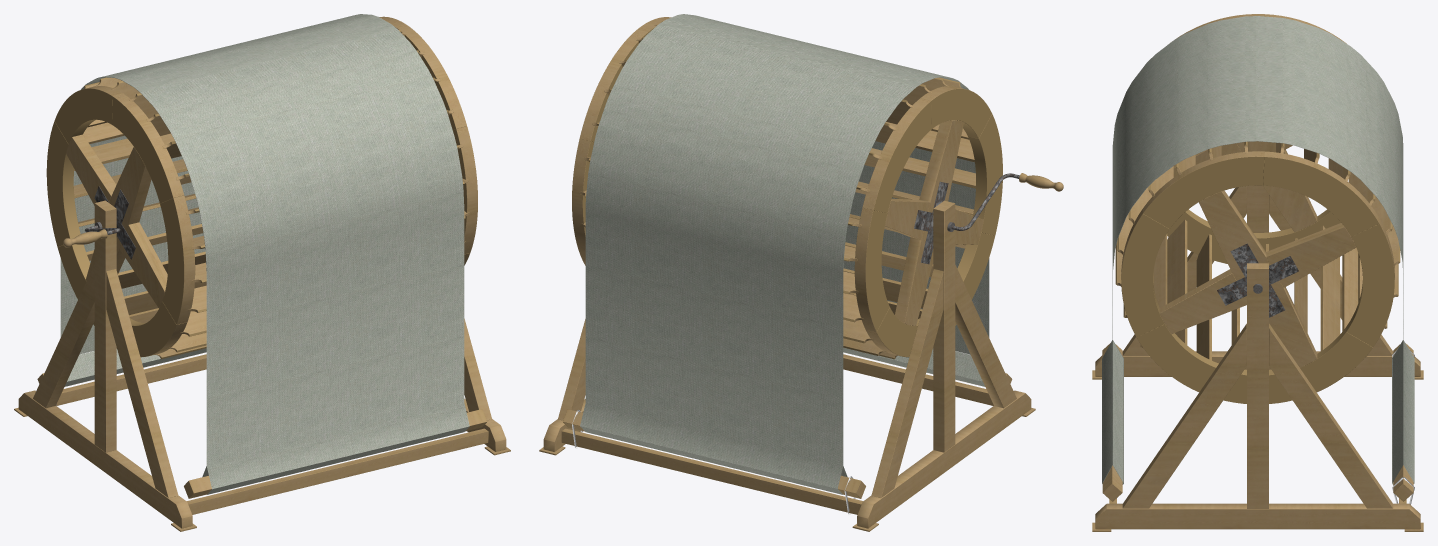
File: baroqueMachinery_Wind_v17 Animation (1).gltf
The picture shows the model from 3 angles, left to right: view 1: azimuth 30°, elevation 25°; view 2: azimuth 150°, elevation 25°; view 3: azimuth 270°, elevation 25°; orthographic projection.
Visible parts, largest first — view 1: Polygon-Fabric_06-LeinenTuch, drum-front-segment-wood-light-04326-1 (×8), diagonal-wood-light-04326-1 (×3), horizontal below-wood-light-04326-1 (×2), Group-wood-light-04326-1 (×2), Polygon-wood-light-04326-1 (×2), vertical-wood-light-04326-1, baroqueMachinery_Wind-Lamelle-wood-light-04326-1 (×2), horizontal fabric-wood-light-04326-1, steel cross-Iron_Dirty_20cm; view 2: Polygon-Fabric_06-LeinenTuch, drum-front-segment-wood-light-04326-1 (×8), diagonal-wood-light-04326-1 (×3), horizontal below-wood-light-04326-1 (×2), Group-wood-light-04326-1 (×2), vertical-wood-light-04326-1, Polygon-wood-light-04326-1, baroqueMachinery_Wind-Lamelle-wood-light-04326-1 (×2), steel cross-Iron_Dirty_20cm, horizontal fabric-wood-light-04326-1; view 3: Polygon-Fabric_06-LeinenTuch, drum-front-segment-wood-light-04326-1 (×8), diagonal-wood-light-04326-1 (×4), Group-wood-light-04326-1 (×4), Polygon-wood-light-04326-1 (×2), baroqueMachinery_Wind-Lamelle-wood-light-04326-1 (×6), vertical-wood-light-04326-1 (×2), steel cross-Iron_Dirty_20cm, horizontal fabric-wood-light-04326-1 (×2).
Boxes of the visible parts, bbox=[...] form: Polygon-Fabric_06-LeinenTuch: bbox=[60, 14, 469, 494]; drum-front-segment-wood-light-04326-1 (×8): bbox=[46, 24, 477, 357]; diagonal-wood-light-04326-1 (×3): bbox=[33, 264, 491, 497]; horizontal below-wood-light-04326-1 (×2): bbox=[56, 354, 488, 514]; Group-wood-light-04326-1 (×2): bbox=[66, 134, 167, 308]; Polygon-wood-light-04326-1 (×2): bbox=[18, 390, 506, 528]; vertical-wood-light-04326-1: bbox=[94, 200, 116, 452]; baroqueMachinery_Wind-Lamelle-wood-light-04326-1 (×2): bbox=[74, 133, 206, 315]; horizontal fabric-wood-light-04326-1: bbox=[184, 409, 487, 498]; steel cross-Iron_Dirty_20cm: bbox=[94, 186, 135, 259]; Polygon-Fabric_06-LeinenTuch: bbox=[580, 14, 989, 494]; drum-front-segment-wood-light-04326-1 (×8): bbox=[572, 29, 1002, 357]; diagonal-wood-light-04326-1 (×3): bbox=[558, 265, 1016, 497]; horizontal below-wood-light-04326-1 (×2): bbox=[561, 354, 993, 514]; Group-wood-light-04326-1 (×2): bbox=[884, 120, 983, 325]; vertical-wood-light-04326-1: bbox=[933, 200, 955, 452]; Polygon-wood-light-04326-1: bbox=[857, 390, 1031, 528]; baroqueMachinery_Wind-Lamelle-wood-light-04326-1 (×2): bbox=[870, 122, 975, 188]; steel cross-Iron_Dirty_20cm: bbox=[914, 181, 948, 264]; horizontal fabric-wood-light-04326-1: bbox=[562, 409, 865, 498]; Polygon-Fabric_06-LeinenTuch: bbox=[1102, 16, 1414, 484]; drum-front-segment-wood-light-04326-1 (×8): bbox=[1121, 151, 1394, 403]; diagonal-wood-light-04326-1 (×4): bbox=[1122, 186, 1393, 508]; Group-wood-light-04326-1 (×4): bbox=[1159, 141, 1356, 367]; Polygon-wood-light-04326-1 (×2): bbox=[1095, 351, 1420, 529]; baroqueMachinery_Wind-Lamelle-wood-light-04326-1 (×6): bbox=[1140, 220, 1367, 360]; vertical-wood-light-04326-1 (×2): bbox=[1247, 185, 1268, 508]; steel cross-Iron_Dirty_20cm: bbox=[1217, 243, 1298, 317]; horizontal fabric-wood-light-04326-1 (×2): bbox=[1102, 343, 1413, 501].
Size of what is drawn, in the model's own units: 57.12 by 50.9 by 40.95.
6 materials, 3 textured.
